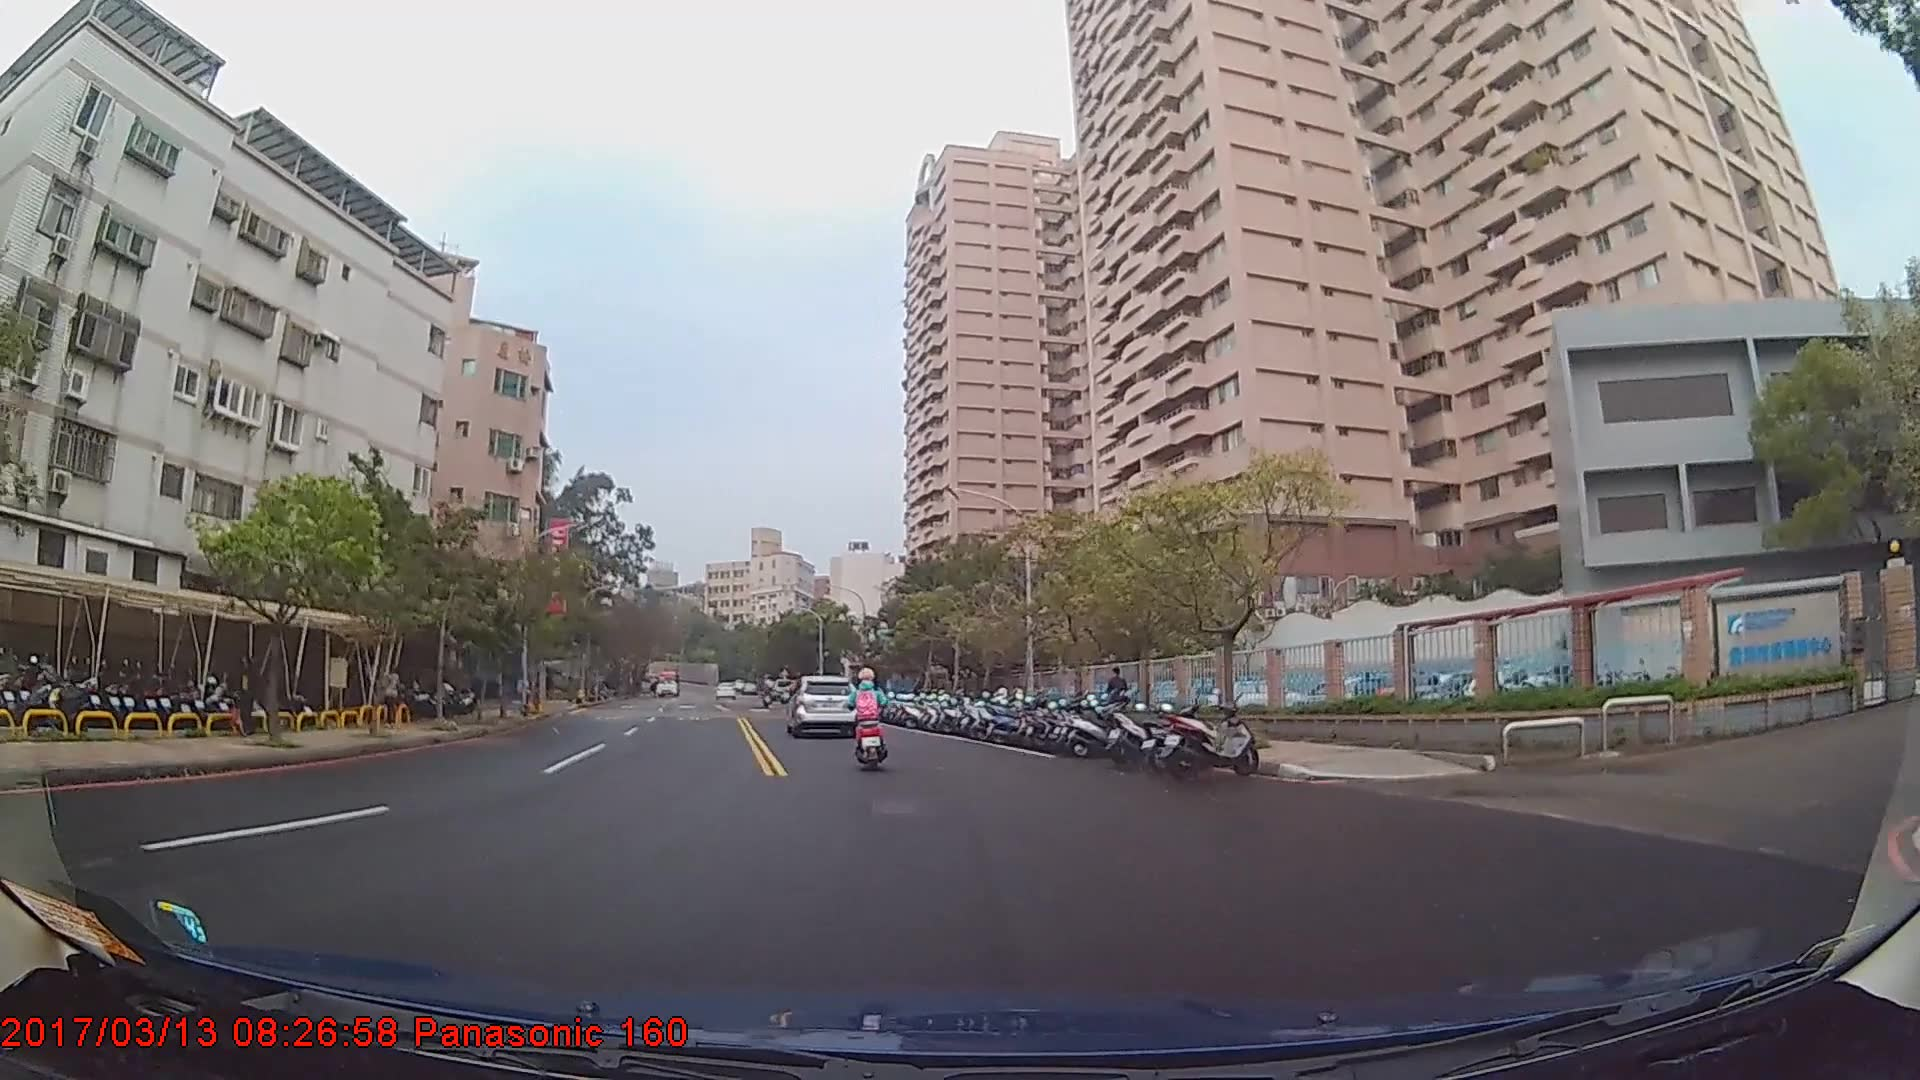pedestrian: (235, 650, 264, 740), (379, 660, 403, 731), (1107, 667, 1132, 731)
rider: (850, 668, 891, 769)
vehicle: (785, 674, 859, 737), (651, 669, 681, 699)
